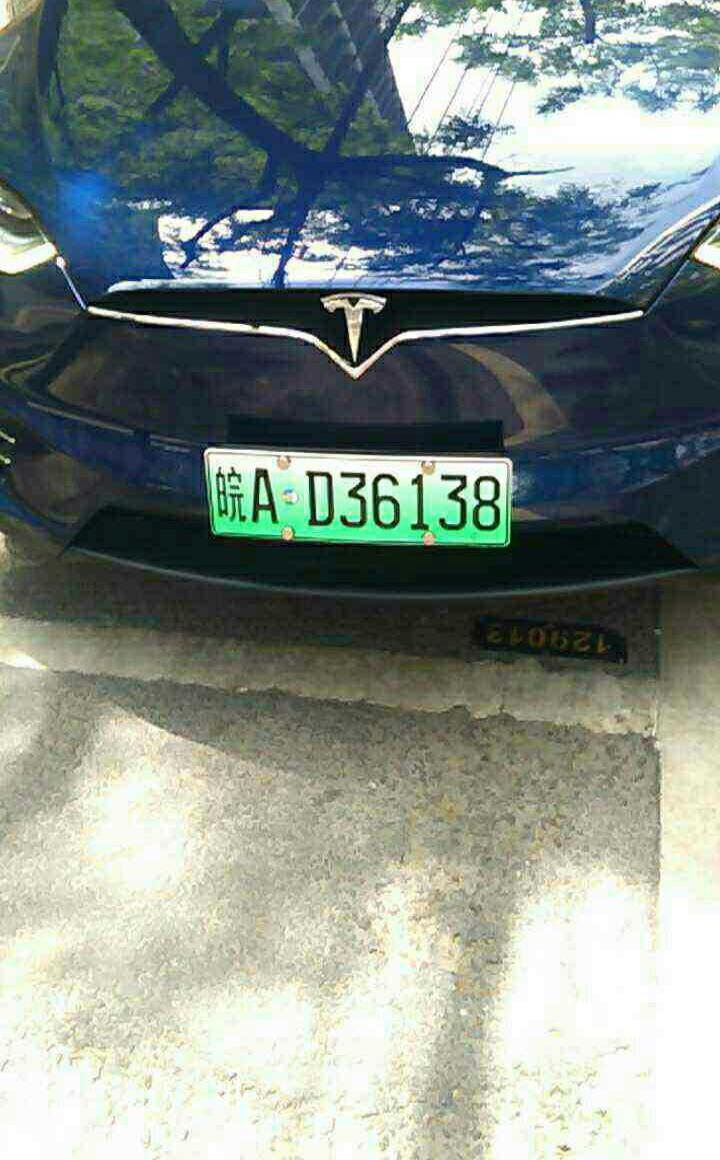car_id: (204, 451, 507, 543)
